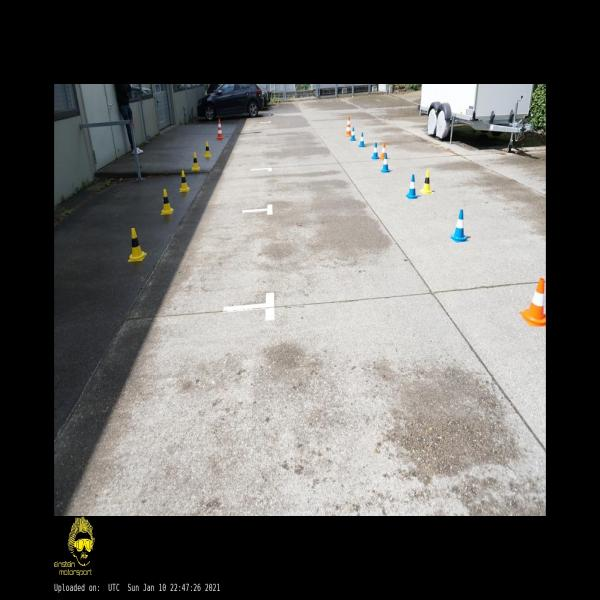blue_cone: (450, 209, 469, 242), (405, 174, 418, 199), (380, 154, 390, 172), (371, 142, 379, 160), (359, 132, 365, 147), (350, 127, 356, 141)
large_orange_cone: (216, 120, 224, 140), (345, 115, 351, 136)
orange_cone: (520, 278, 545, 326), (380, 143, 385, 159)
yellow_cone: (128, 228, 146, 262), (160, 190, 174, 214), (420, 170, 432, 194), (179, 170, 190, 192), (191, 152, 200, 170), (204, 142, 211, 158)
